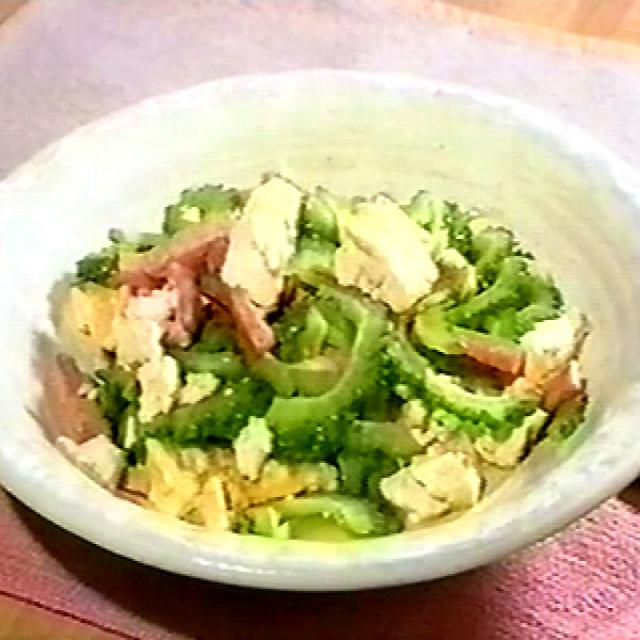熟制海鲜: (0, 38, 640, 608)
